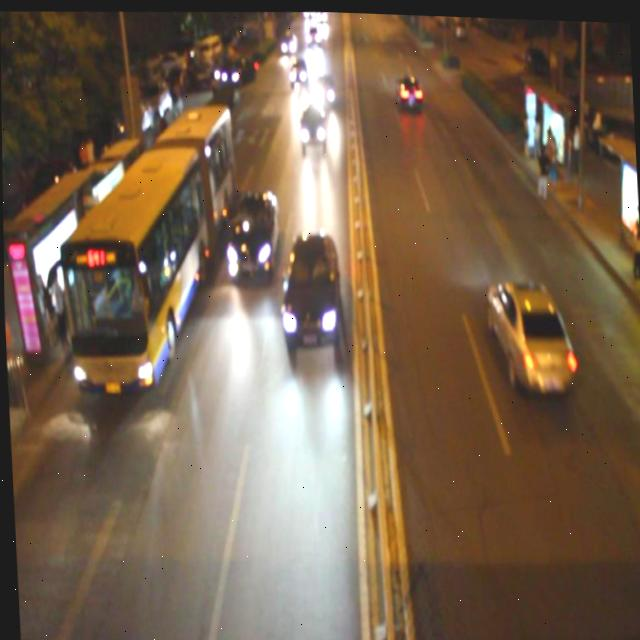car: (482, 270, 575, 393), (273, 223, 344, 347), (222, 184, 279, 281), (393, 65, 423, 110), (298, 101, 325, 145), (311, 69, 336, 107), (286, 52, 310, 84)
van: (50, 94, 236, 392)
